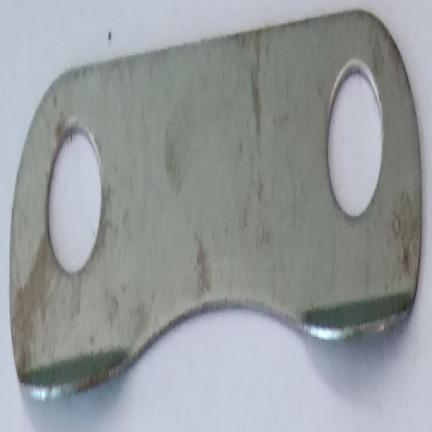karat: (12, 232, 54, 386)
